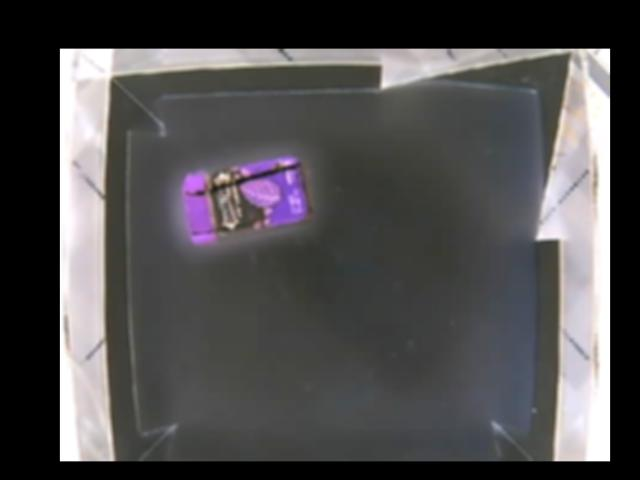Bottle: (183, 157, 312, 244)
